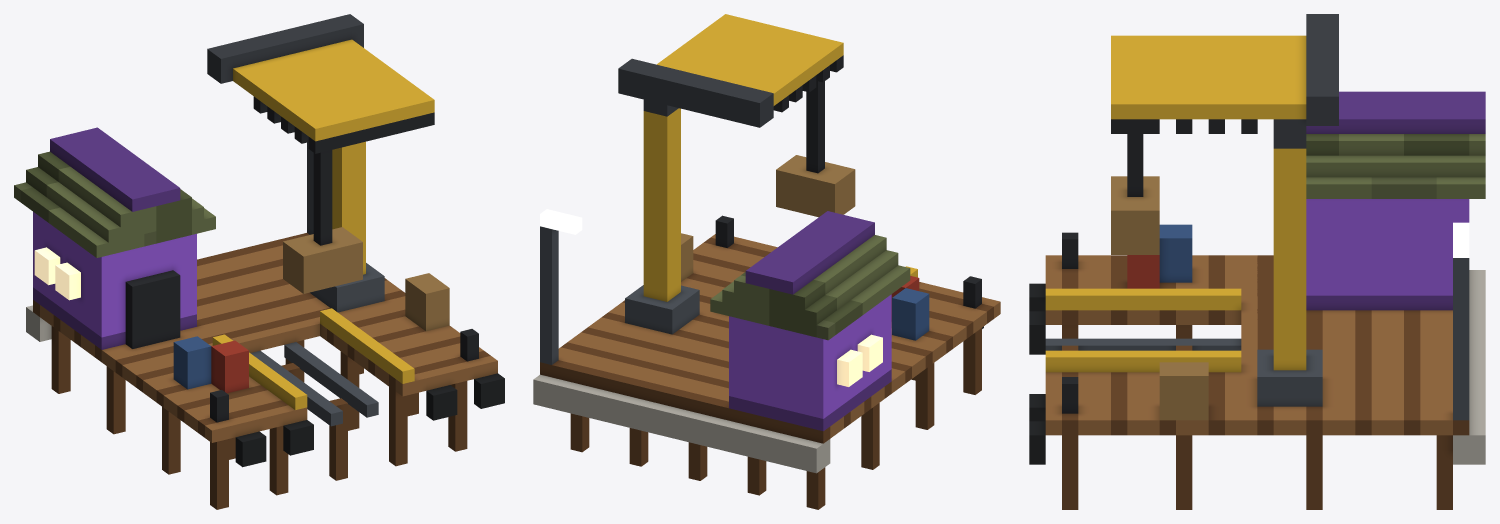
File: cm_dock_4.glb
3 renders of one model, left to right at view 1: azimuth 30°, elevation 25°; view 2: azimuth 150°, elevation 25°; view 3: azimuth 270°, elevation 25°, orthographic. The views are drawn at different scales.
Visible parts, largest first — view 1: cm_dock_4_body; view 2: cm_dock_4_body; view 3: cm_dock_4_body.
Part boxes in pixels (<box>): cm_dock_4_body: <box>14,14,504,509</box>; cm_dock_4_body: <box>533,14,1000,509</box>; cm_dock_4_body: <box>1029,14,1485,509</box>.
Size of the model in its own units: 1.56 by 1.75 by 1.75.
Materials: 1 (1 with a texture image).
